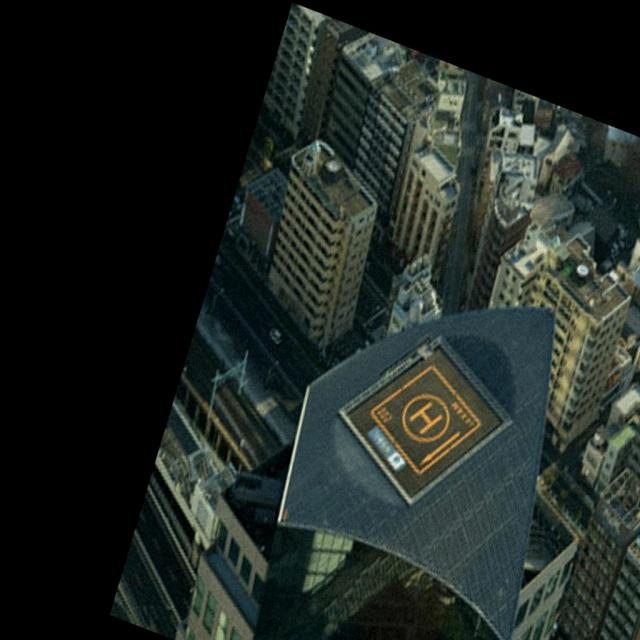helipad: (401, 391, 452, 443)
